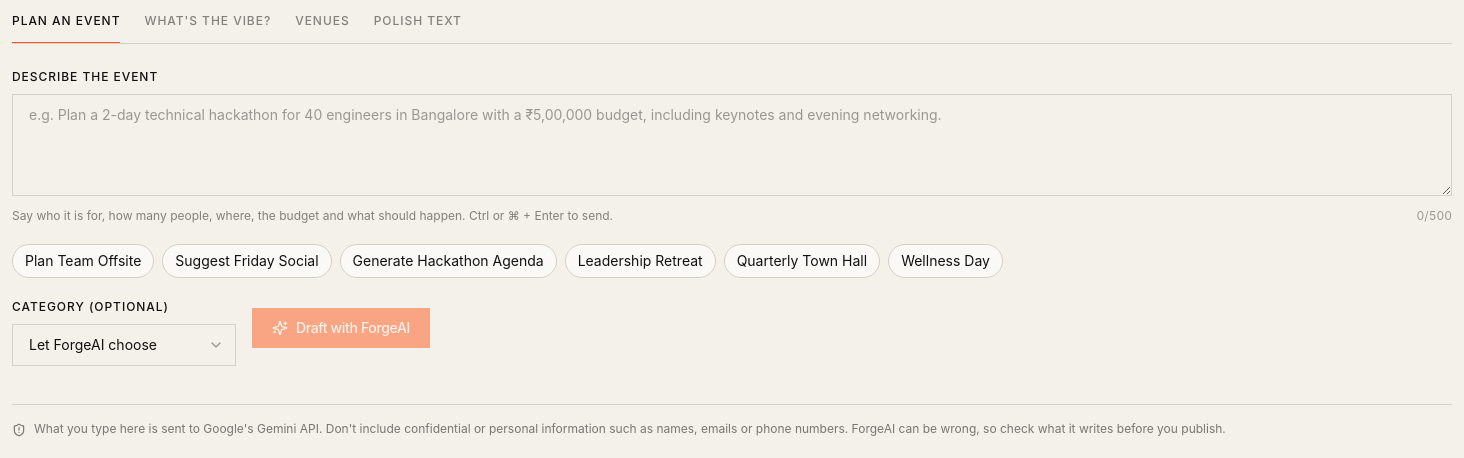
Test: ForgeAiPanel › Plan an event › puts a field problem beside the box and not in a banner
Type "Email me at a@b.co" into the text box labelled "Describe the event" at (732, 145), box 12,94 -> 1452,196
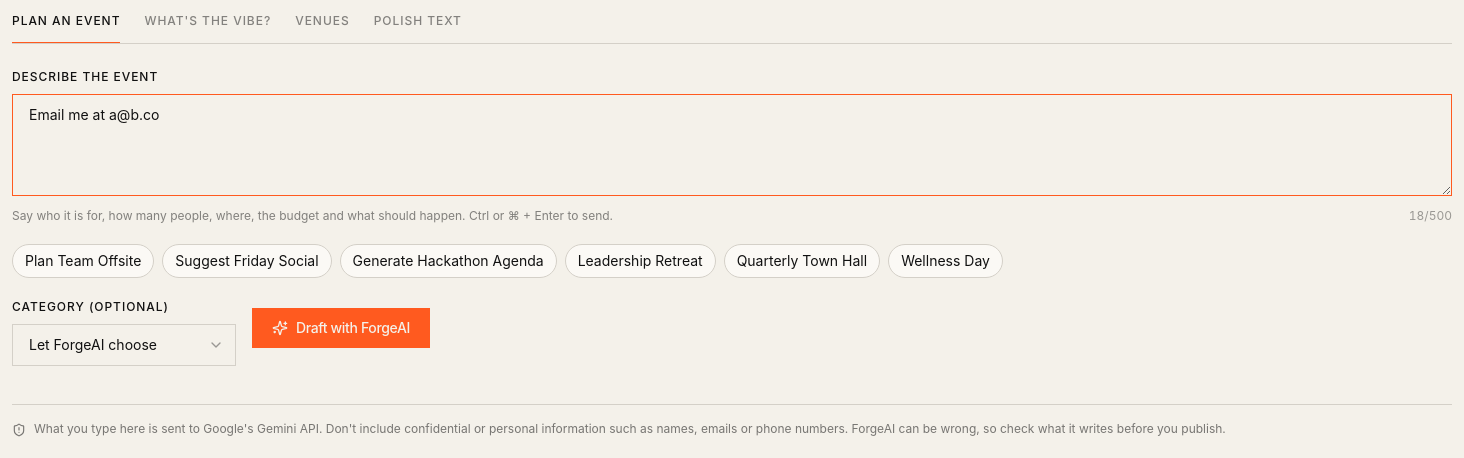
Click the button "Draft with ForgeAI" at (341, 328), box 252,308 -> 430,348
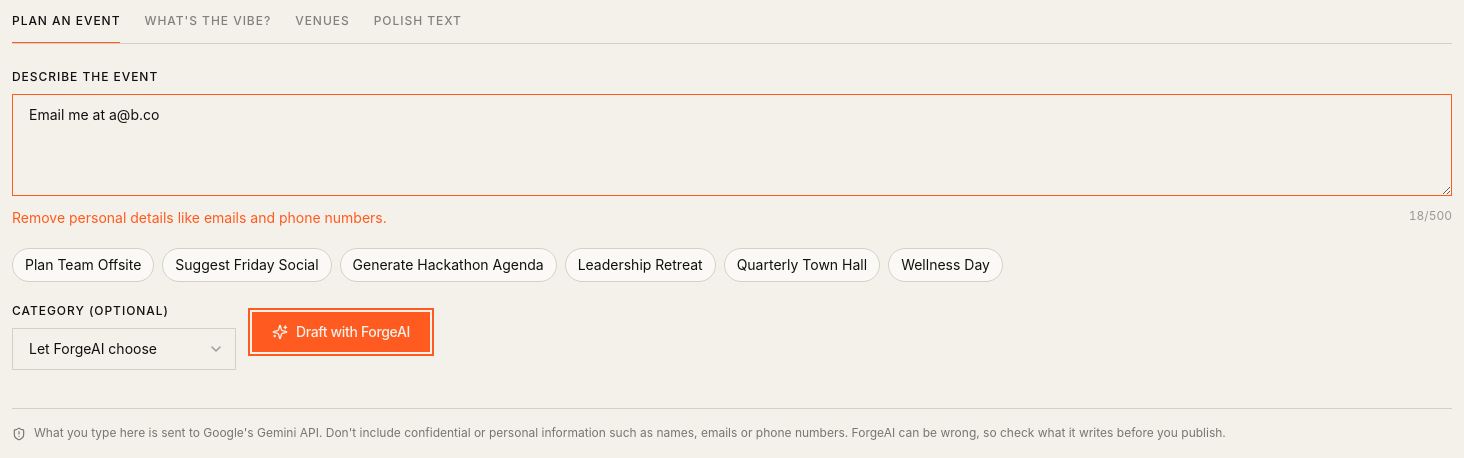
Expected: the message does not show "Some details need fixing", 12,208 -> 387,228
Now the number of messages is 1, box 12,208 -> 387,228
Now the message reads "Remove personal details like emails and phone numbers.", box 12,209 -> 387,226
